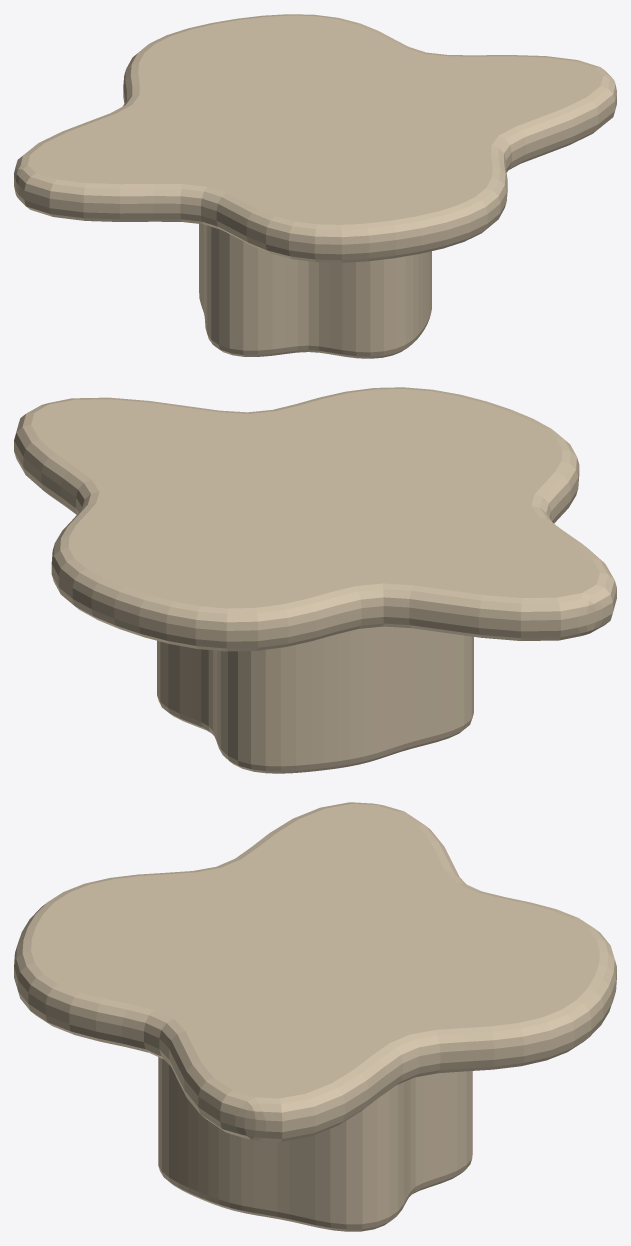
File: organic-table-sm.glb
3 views of the same model, one above another, from view 1: azimuth 30°, elevation 25°; view 2: azimuth 150°, elevation 25°; view 3: azimuth 270°, elevation 25° (orthographic). The views are drawn at different scales.
Parts seen in each view (by area): view 1: otable_sm_top, otable_sm_foot; view 2: otable_sm_top, otable_sm_foot; view 3: otable_sm_top, otable_sm_foot.
Part boxes in pixels (box(x1,y1,x2,y2)): otable_sm_top: box(14, 14, 616, 262); otable_sm_foot: box(199, 224, 431, 358); otable_sm_top: box(14, 387, 616, 651); otable_sm_foot: box(157, 626, 473, 773); otable_sm_top: box(14, 802, 616, 1141); otable_sm_foot: box(158, 1057, 472, 1231).
Size of the model in its own units: 1.03 by 0.34 by 0.8479.
